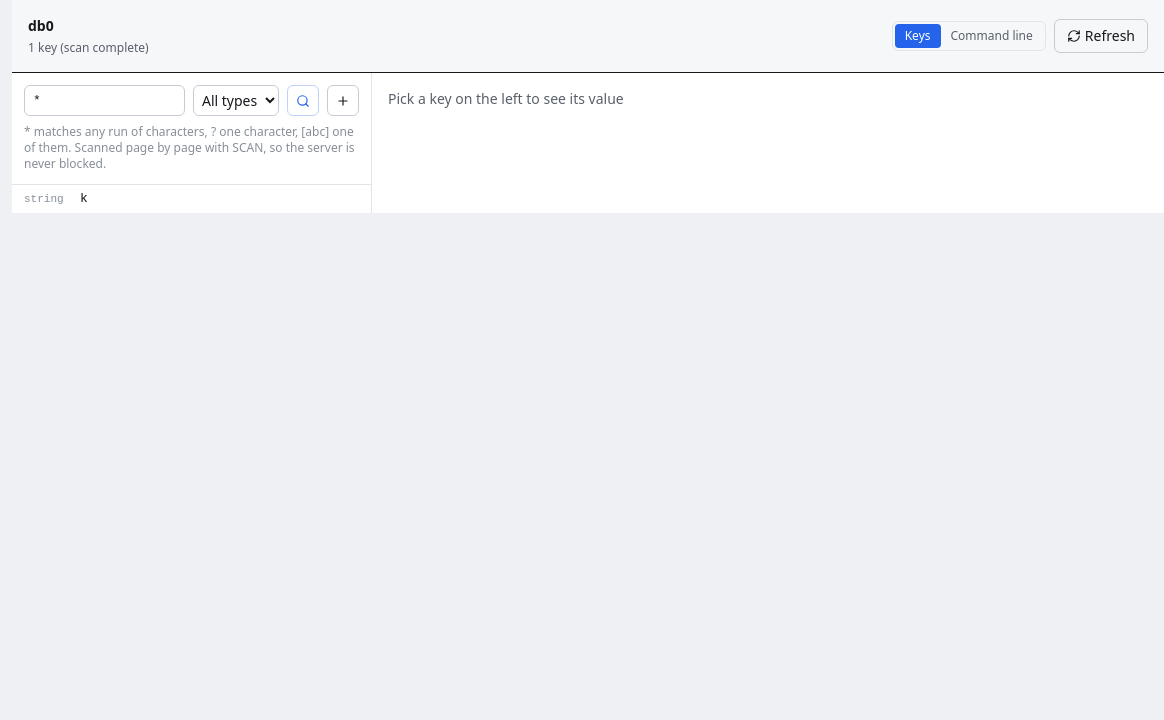
RedisKeyBrowser › 保存撞上别处的改动后，取消显示服务端当前的值
Click the button "string k" at (44, 198), box [12,185,371,212]
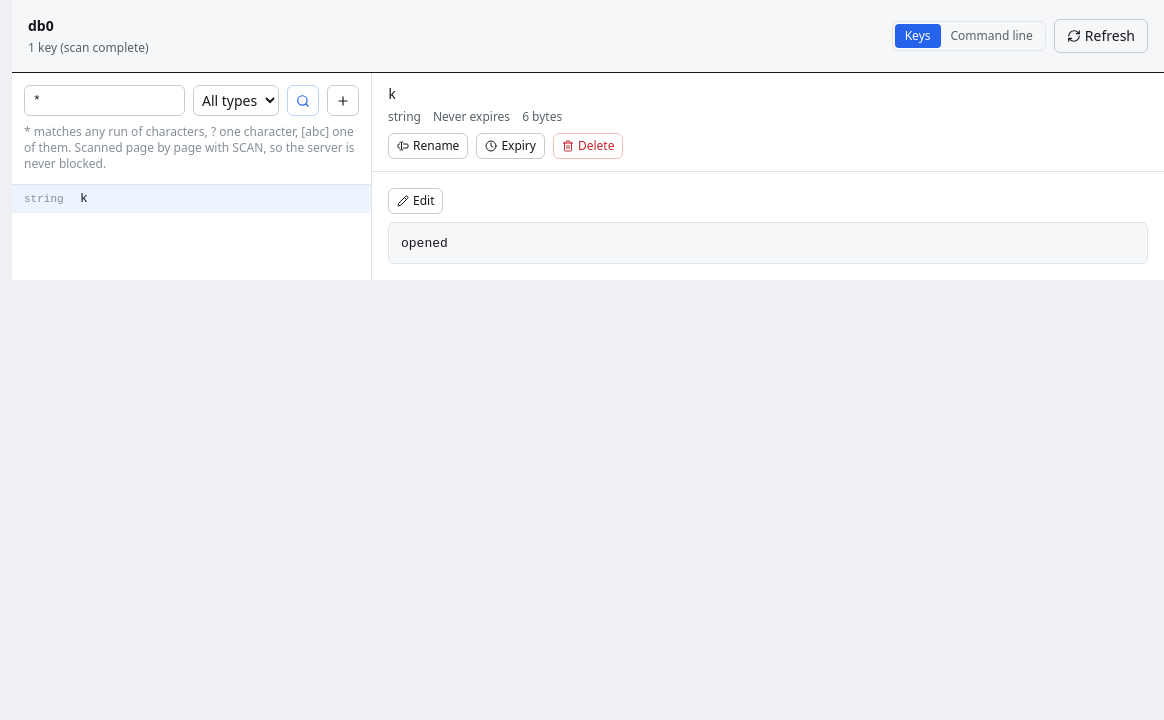
Click the button "Edit" at (416, 201), box [388,188,444,214]
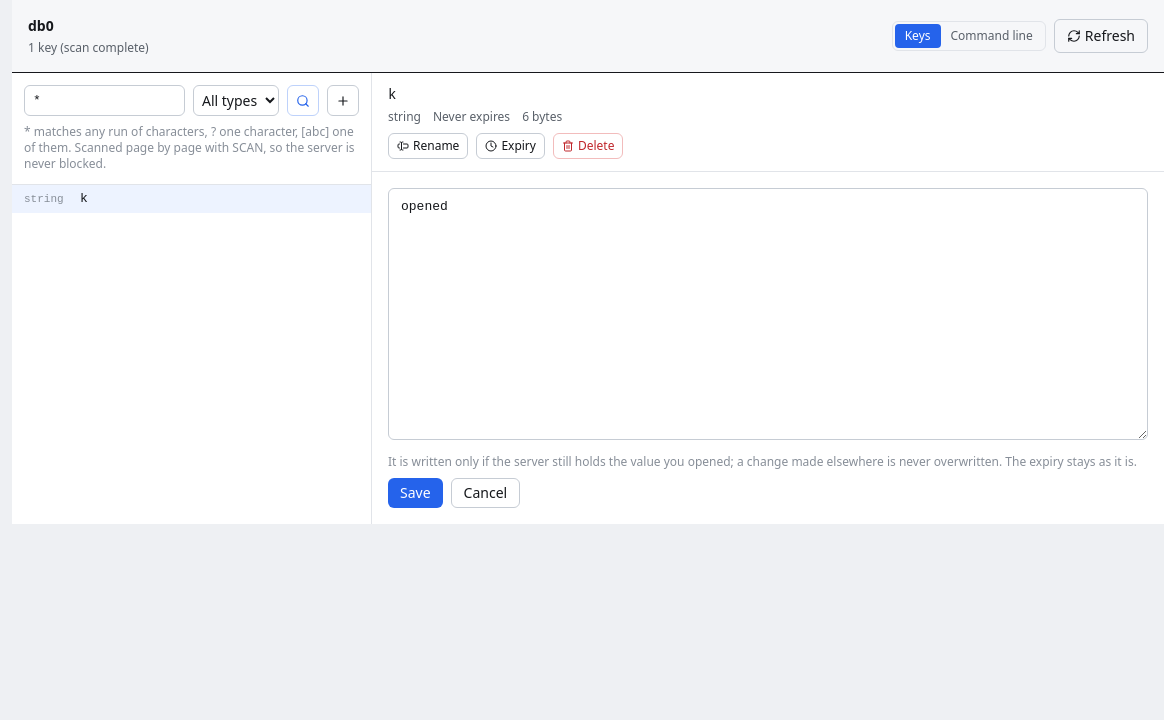
Click the button "Save" at (415, 493), box [388,478,443,508]
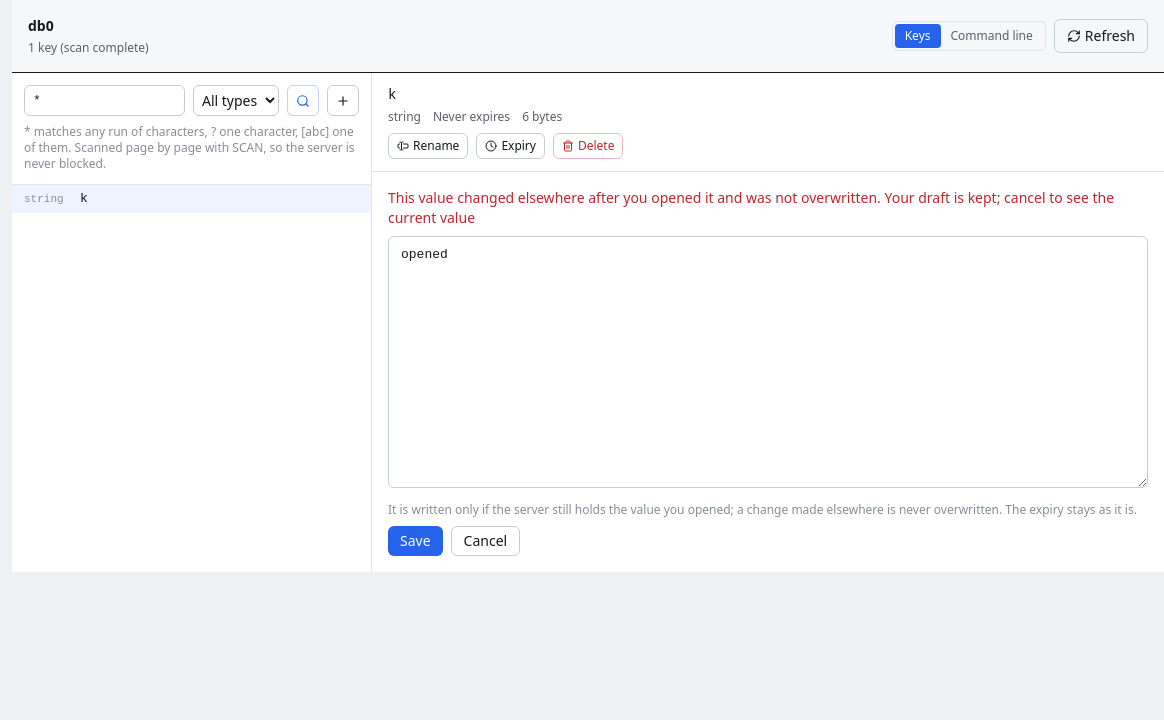
expect the text "changed elsewhere after you opened it" is shown: met, box [388,188,1114,227]
Click the button "Cancel" at (485, 541), box [451,526,520,556]
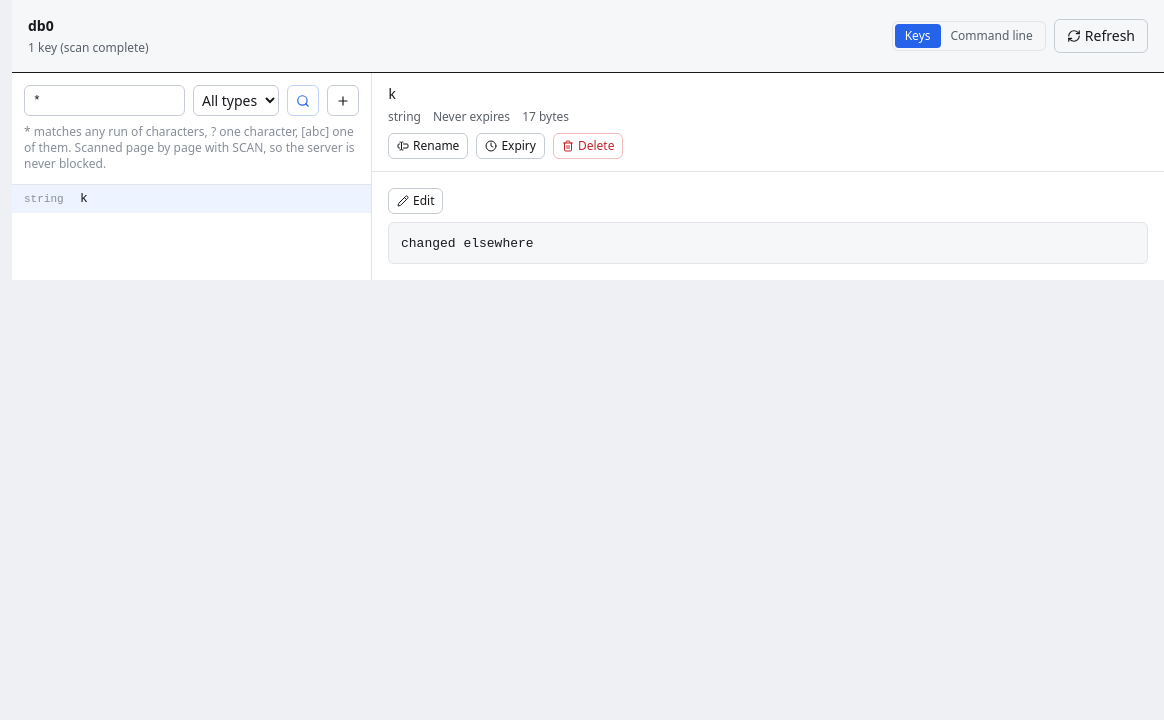
expect the text "changed elsewhere" is shown: met, box [401,236,534,251]
expect the text "opened" is gone: met
